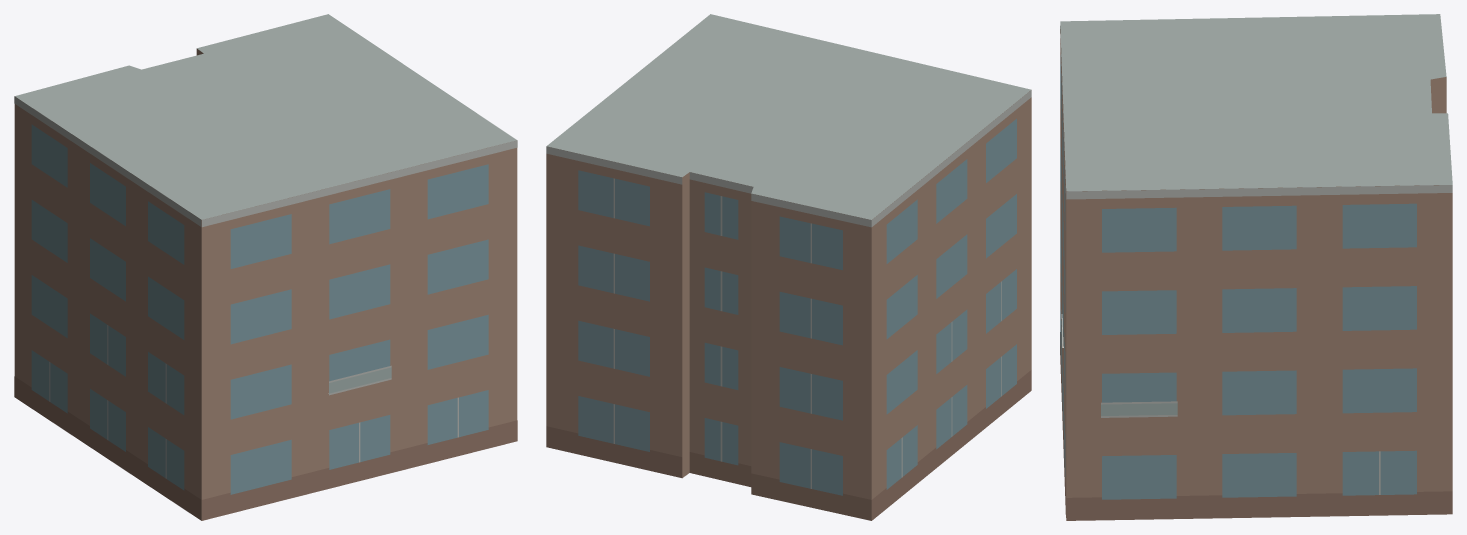
The model's file is survey-upis-33026628.glb.
3 renders of one model, left to right at view 1: azimuth 30°, elevation 25°; view 2: azimuth 150°, elevation 25°; view 3: azimuth 270°, elevation 25°, orthographic. The views are drawn at different scales.
Parts seen in each view (by area): view 1: survey-upis-33026628.tmp; view 2: survey-upis-33026628.tmp; view 3: survey-upis-33026628.tmp.
Boxes of the visible parts, x1,y1,x2,y2 form: survey-upis-33026628.tmp: (14, 14, 517, 520); survey-upis-33026628.tmp: (546, 14, 1031, 520); survey-upis-33026628.tmp: (1060, 14, 1452, 520).
Size of the model in its own units: 11.46 by 9.92 by 10.72.
